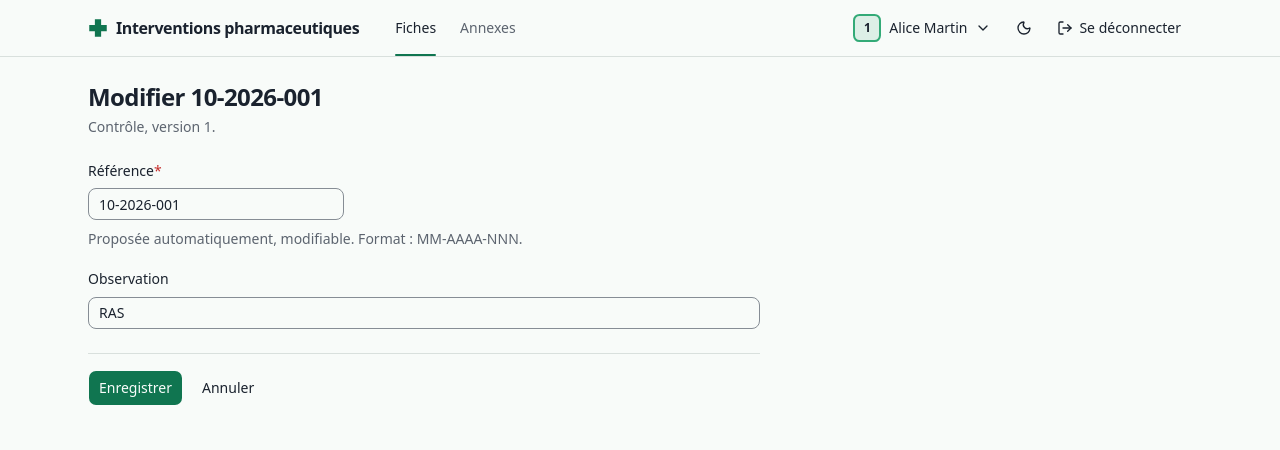
Scenario: Fiche editor › a 409 on the reference is shown on the reference field
The width and height of the screenshot is (1280, 450).
Replace the text in the field labelled "Référence*" with "10-2026-002" at (216, 204), box [88,188,344,220]
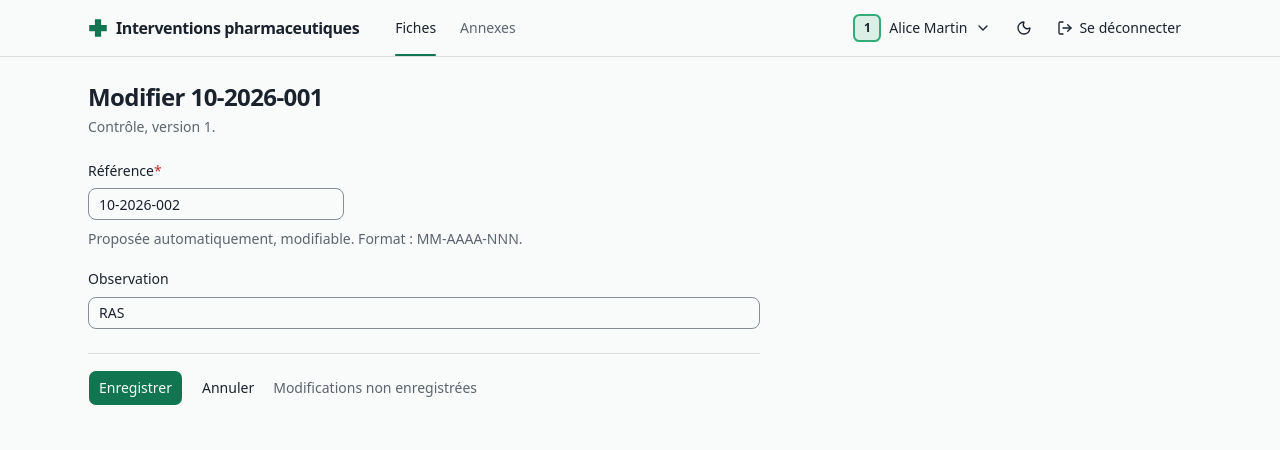
Click the button "Enregistrer" at (136, 388), box [88,370,183,406]
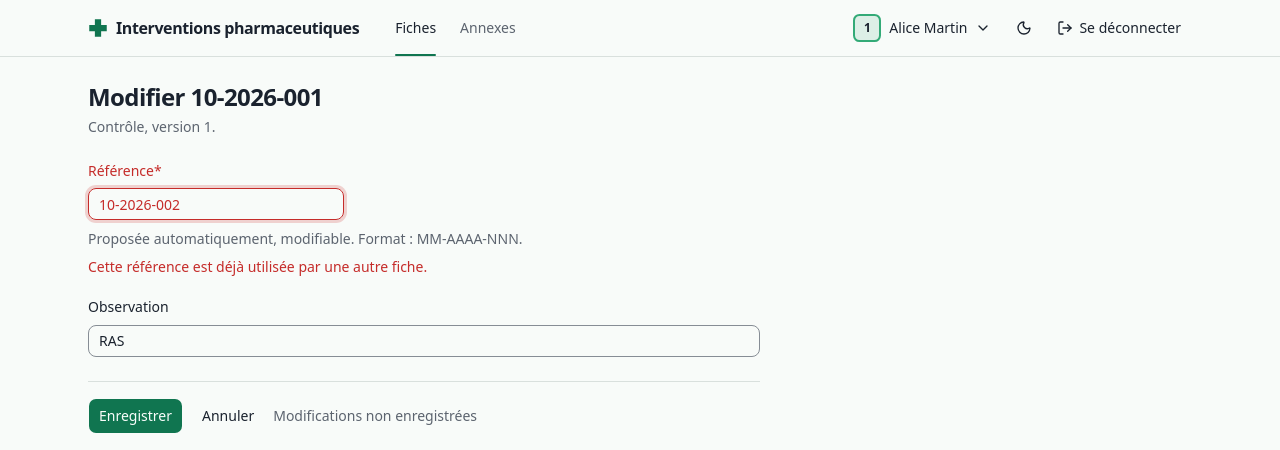
Check: the text "Cette référence est déjà utilisée par une autre fiche." is shown, box [88,257,427,276]
